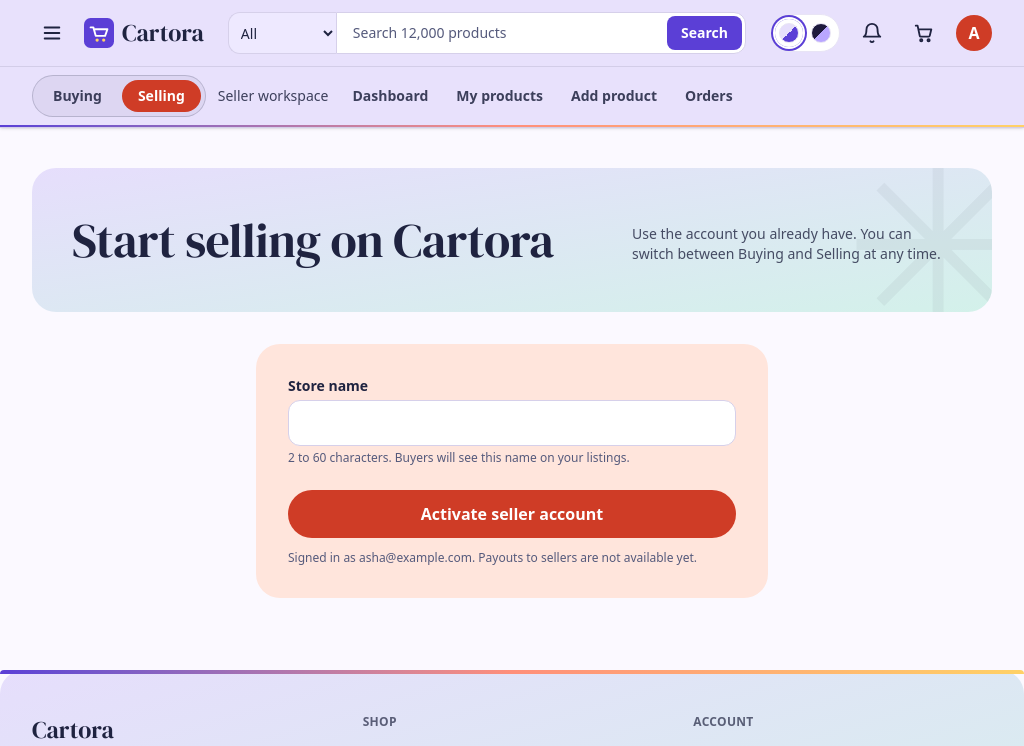
Test case: seller set-up › activates the account only after the server confirms, then opens the dashboard
In the field labelled "Store name": (512, 423) [288, 400, 736, 446], type "  Asha Crafts "
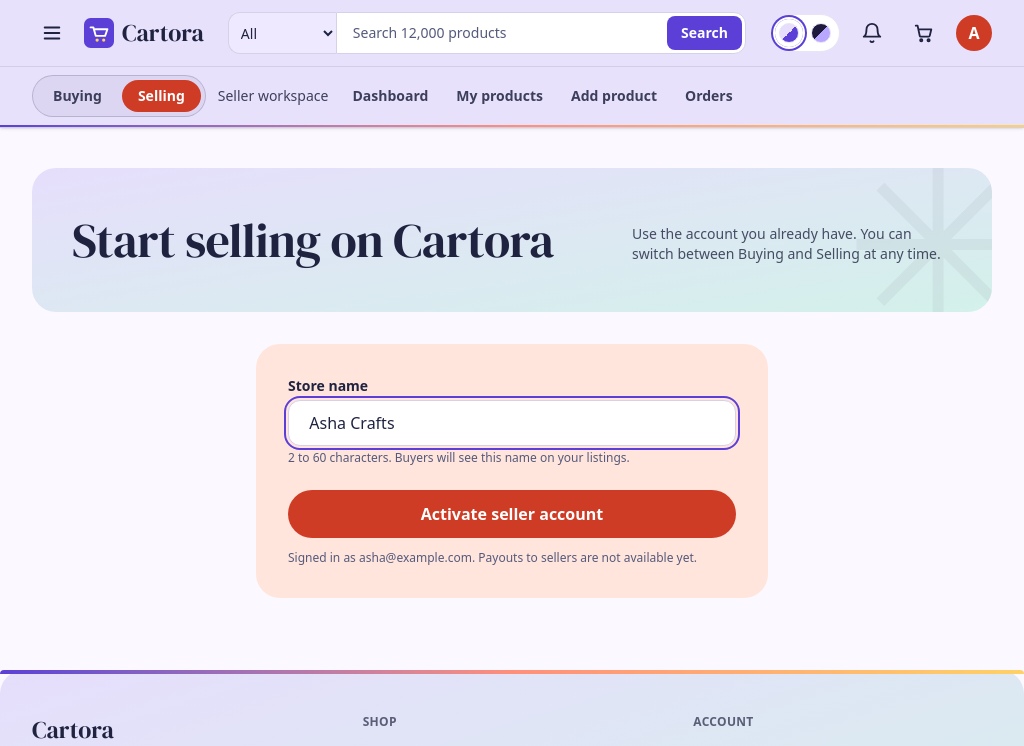
Click the button "Activate seller account": (512, 514) [288, 490, 736, 538]
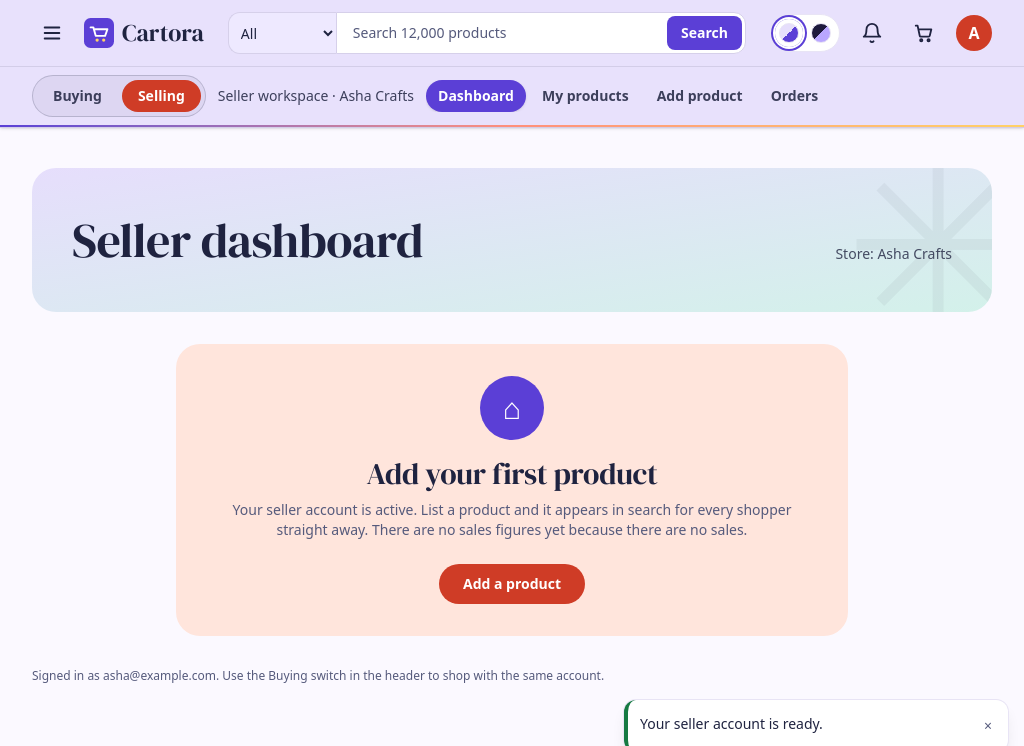
Check: the heading "Seller dashboard" is shown, box [72, 216, 423, 264]
Check: the text "Your seller account is ready." is shown, box [640, 714, 823, 733]
Check: the text "Seller workspace · Asha Crafts" is shown, box [218, 86, 414, 106]
